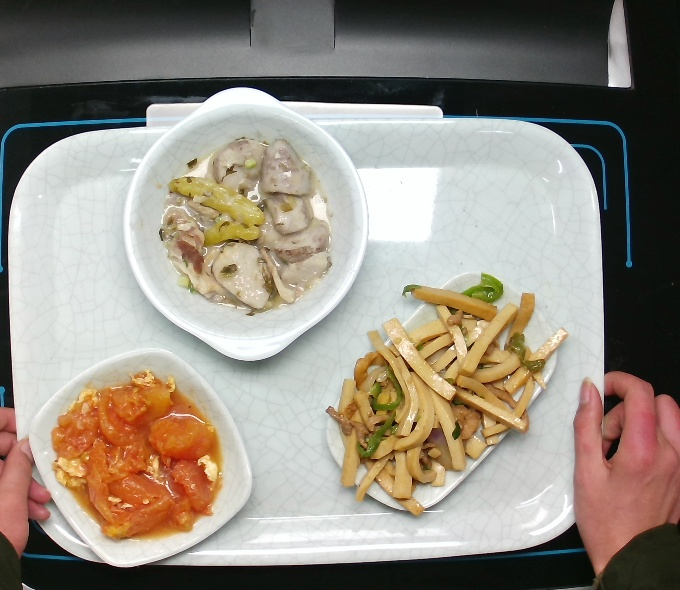wcq-FanQieChaoDan: (45, 367, 227, 548)
wcq-QianYeDouFu: (323, 270, 563, 513)
wcq-YangYu: (158, 133, 338, 317)
